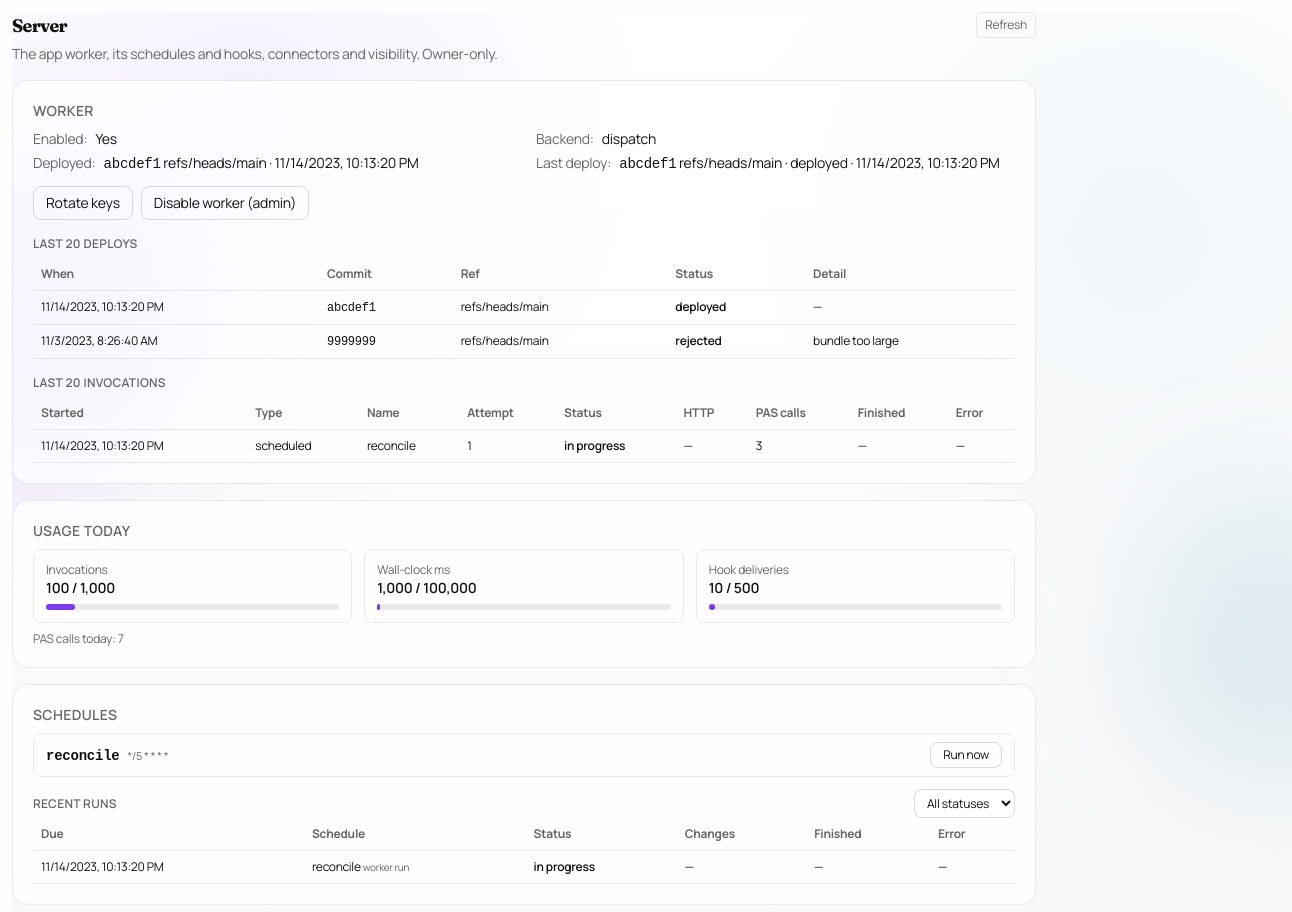
AppServer › offers the worker toggle only to admins and surfaces its refusal
Click the button "Disable worker (admin)". click: (225, 203)
box: x1=141 y1=186 x2=309 y2=220
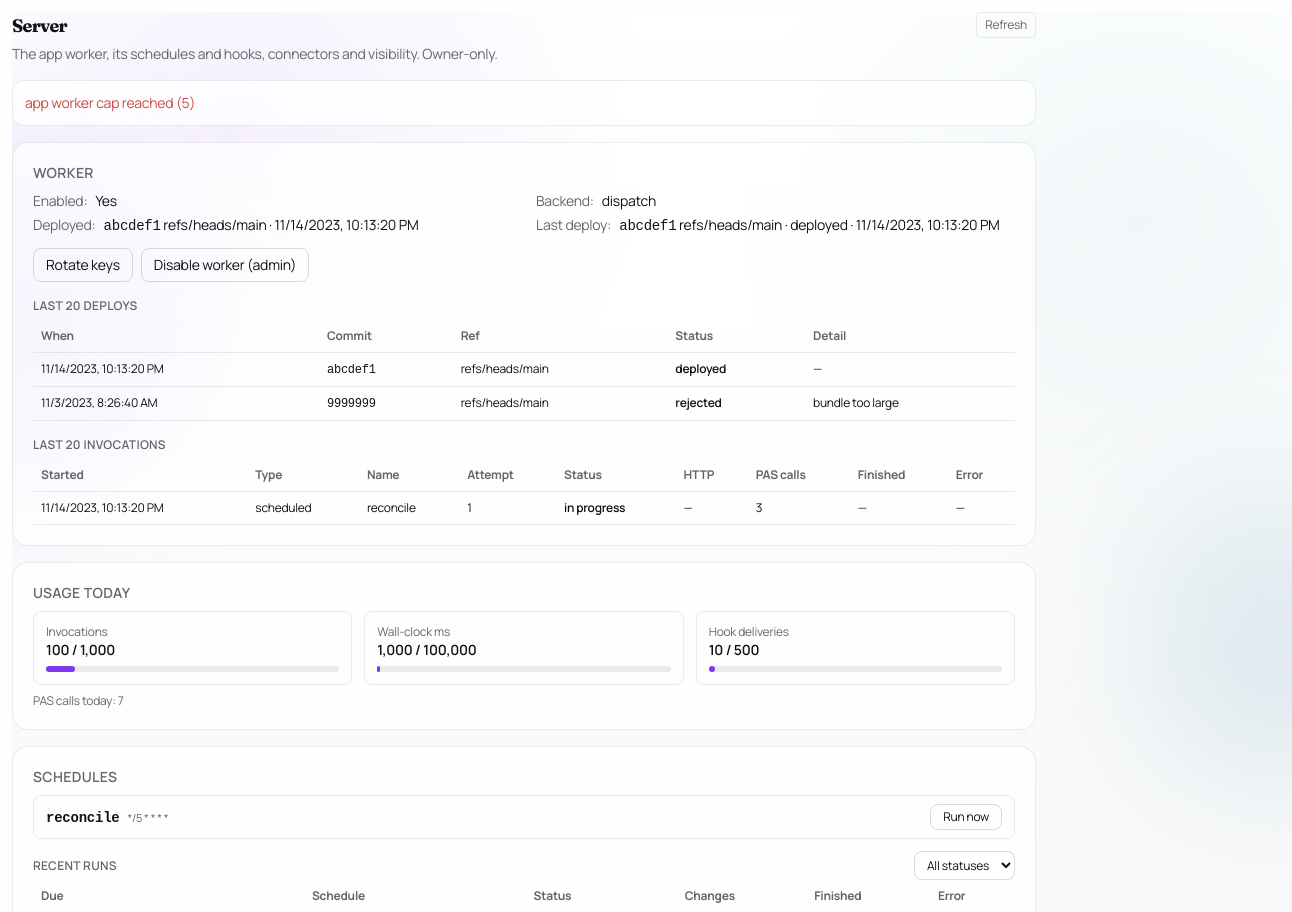
Now the text "app worker cap reached (5)" is shown, box x1=12 y1=80 x2=1036 y2=126
